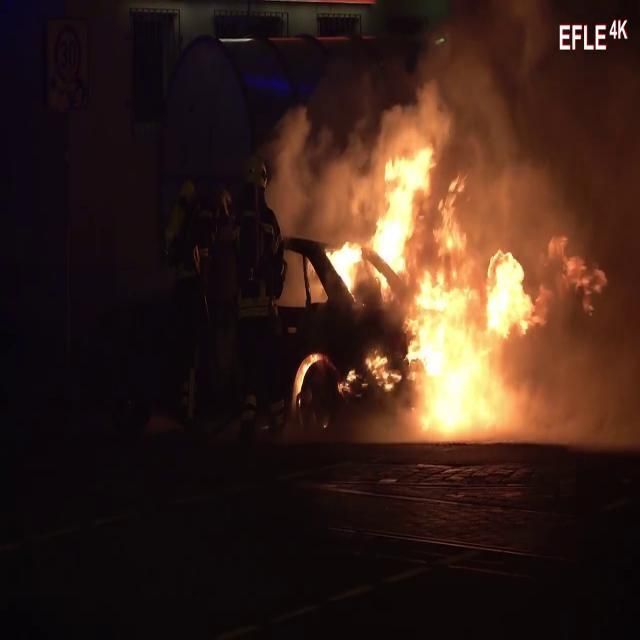Fire: (326, 128, 568, 438)
Smoke: (514, 18, 640, 437)
